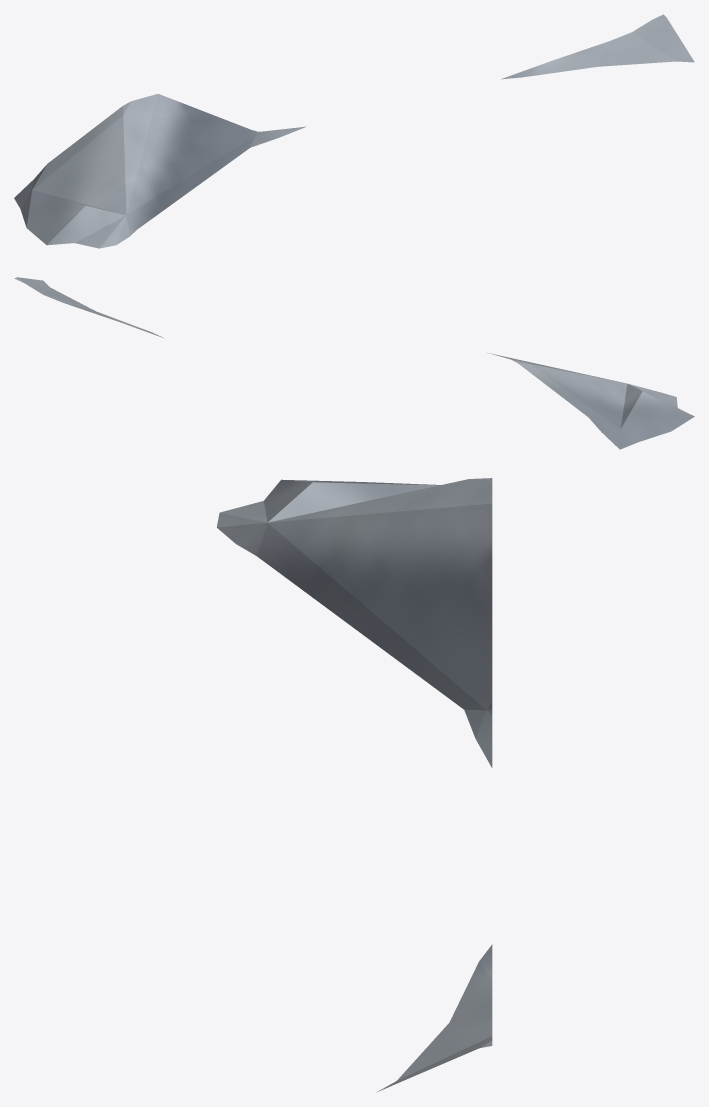
3 views of the same model, one above another, from view 1: azimuth 30°, elevation 25°; view 2: azimuth 150°, elevation 25°; view 3: azimuth 270°, elevation 25° (orthographic). The views are drawn at different scales.
Size of the model in its own units: 0.2456 by 0.0241 by 0.0467.
Materials: 1 (1 with a texture image).
